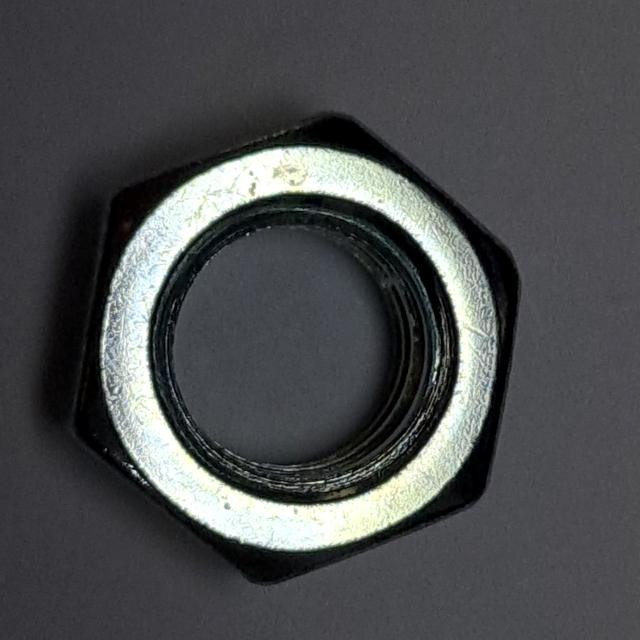Excellent: (49, 90, 531, 600)
